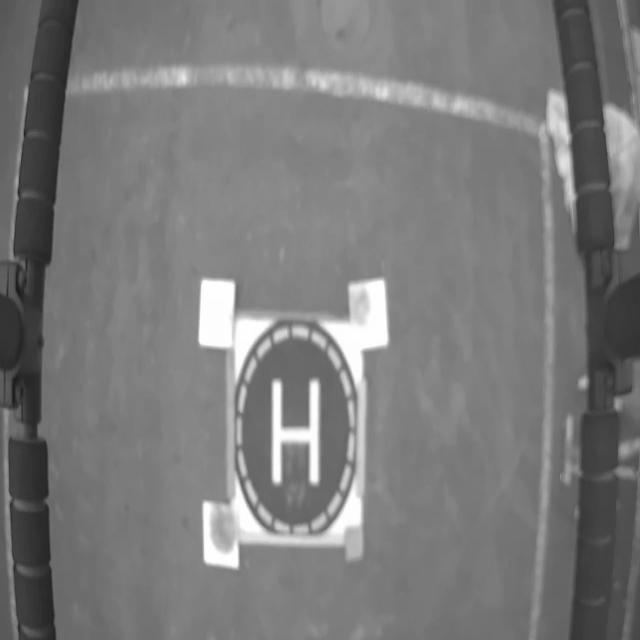Helipad: (271, 378, 321, 484)
